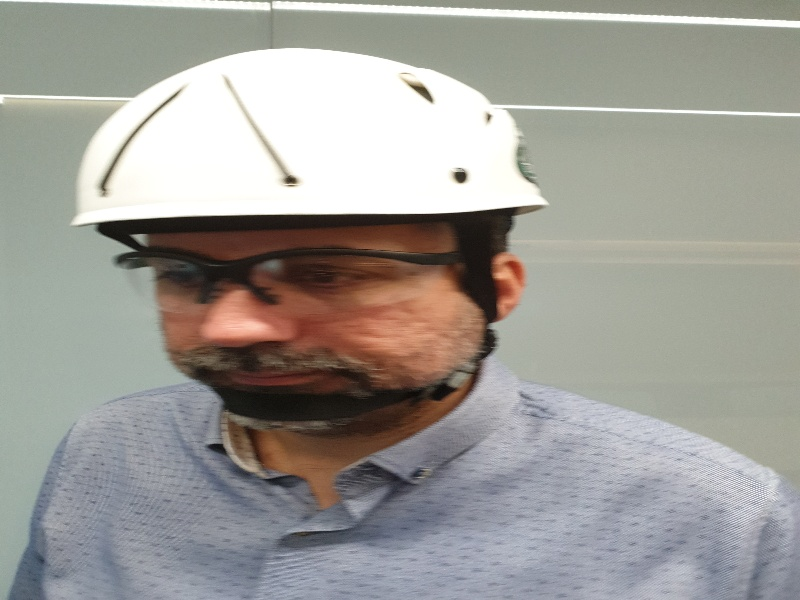Baret: (75, 48, 546, 209)
Gozluk: (111, 246, 463, 310)
